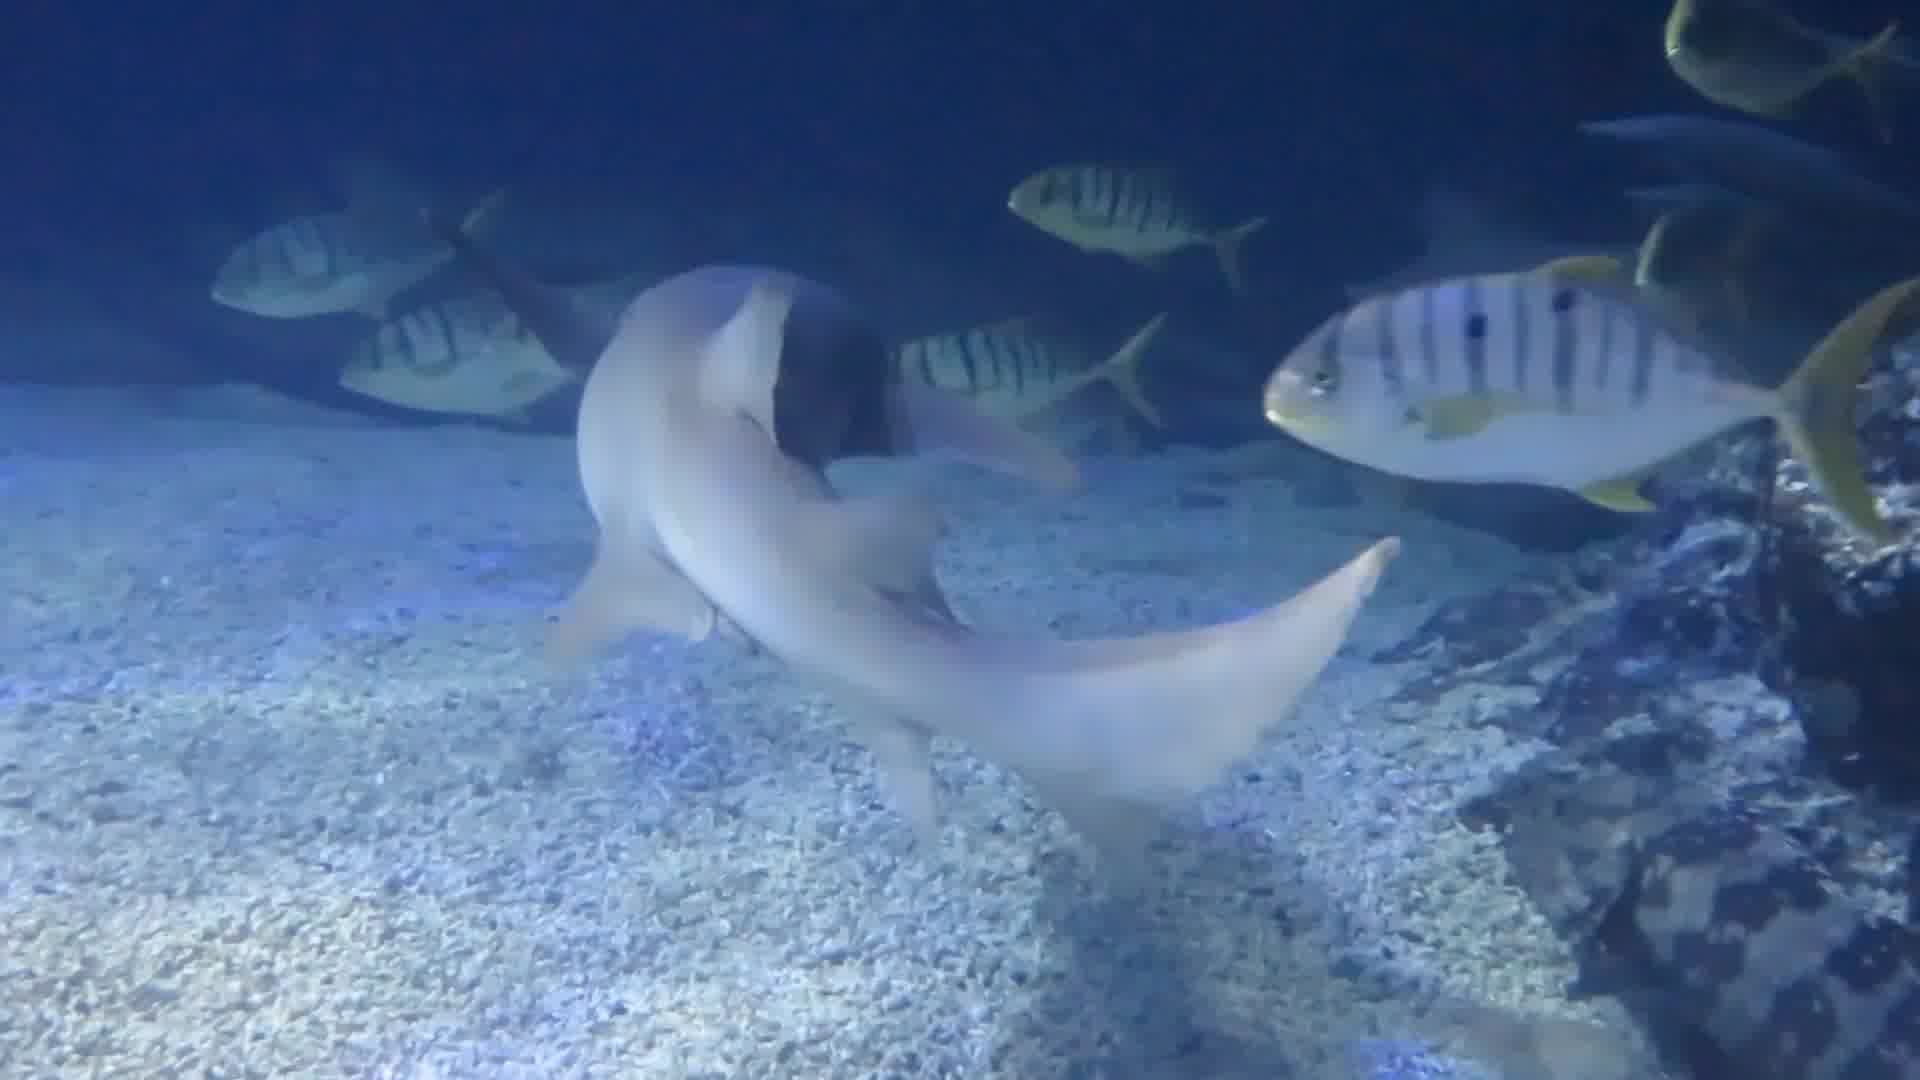Nebrius ferrugineus: (512, 227, 1216, 823)
